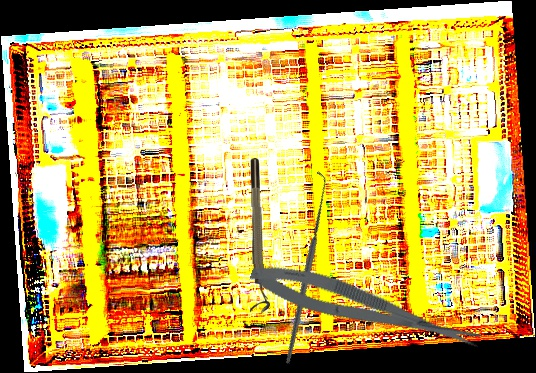Fixation Ring: (247, 157, 271, 314)
Hook Surgical: (208, 171, 399, 365)
Micro Scissor: (245, 253, 485, 364)
